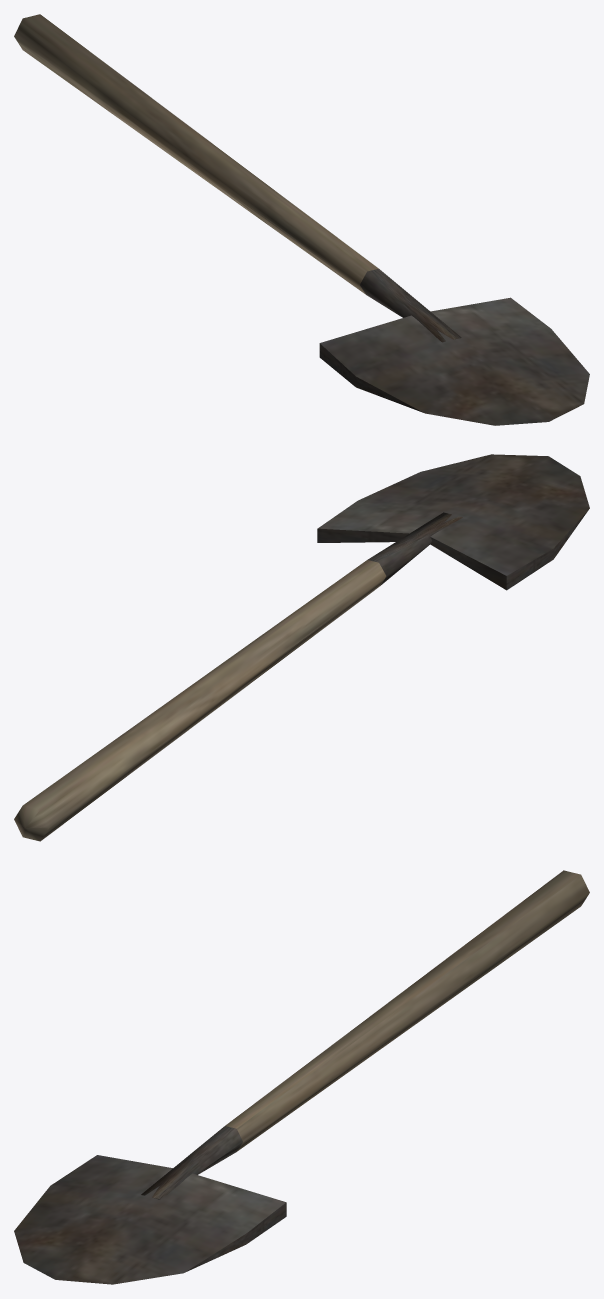
Rendered from pir_m_hnd_tol_shovel.fbx.
The picture shows the model from 3 angles, top to bottom: view 1: azimuth 30°, elevation 25°; view 2: azimuth 150°, elevation 25°; view 3: azimuth 330°, elevation 25°; orthographic projection.
Parts seen in each view (by area): view 1: spade, handle, spade_attach; view 2: spade, handle, spade_attach; view 3: spade, handle, spade_attach.
Part boxes in pixels (x1,y1,x2,y2): spade: (319,297,589,425); handle: (14,14,378,294); spade_attach: (360,268,461,342); spade: (317,454,589,590); handle: (14,560,386,841); spade_attach: (367,512,462,585); spade: (14,1155,286,1284); handle: (225,870,589,1151); spade_attach: (141,1126,242,1199).
Bounding box in the file's own units: 92.53 × 18.01 × 429.
1 material, 1 textured.
